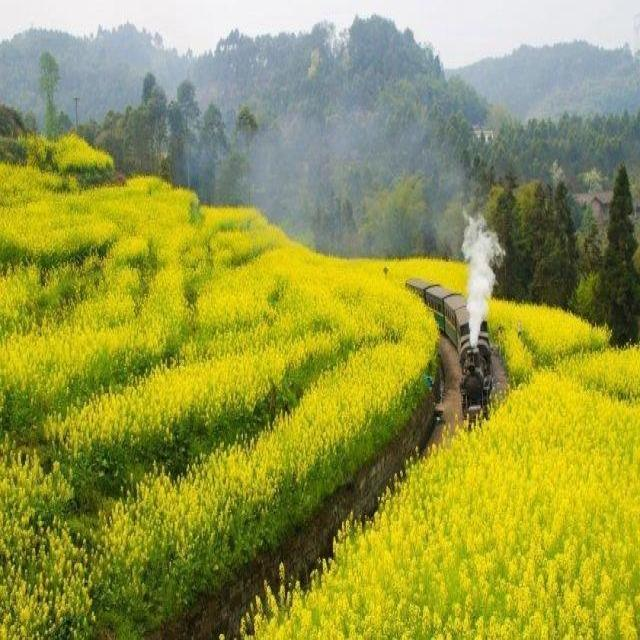Smoke: (460, 206, 507, 346)
